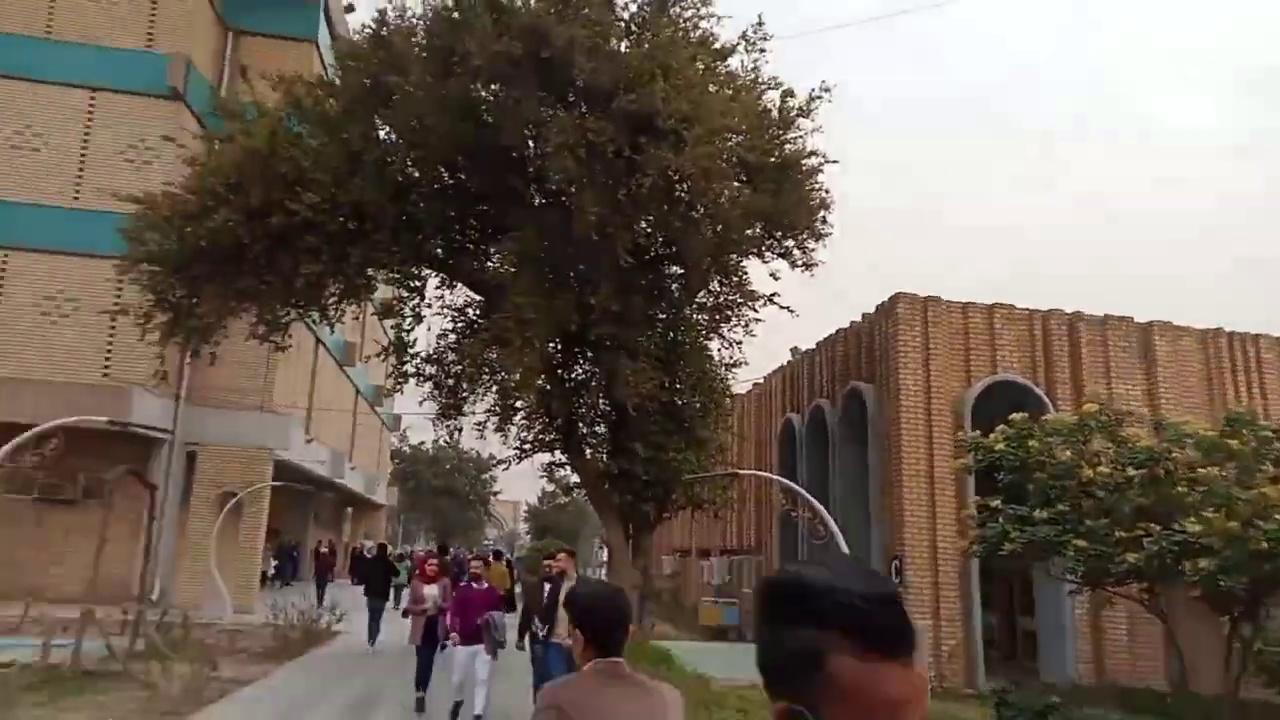person: (752, 555, 930, 719), (529, 576, 685, 719)
tree: (109, 0, 840, 638), (949, 397, 1278, 706), (386, 436, 507, 552), (519, 486, 601, 554)
